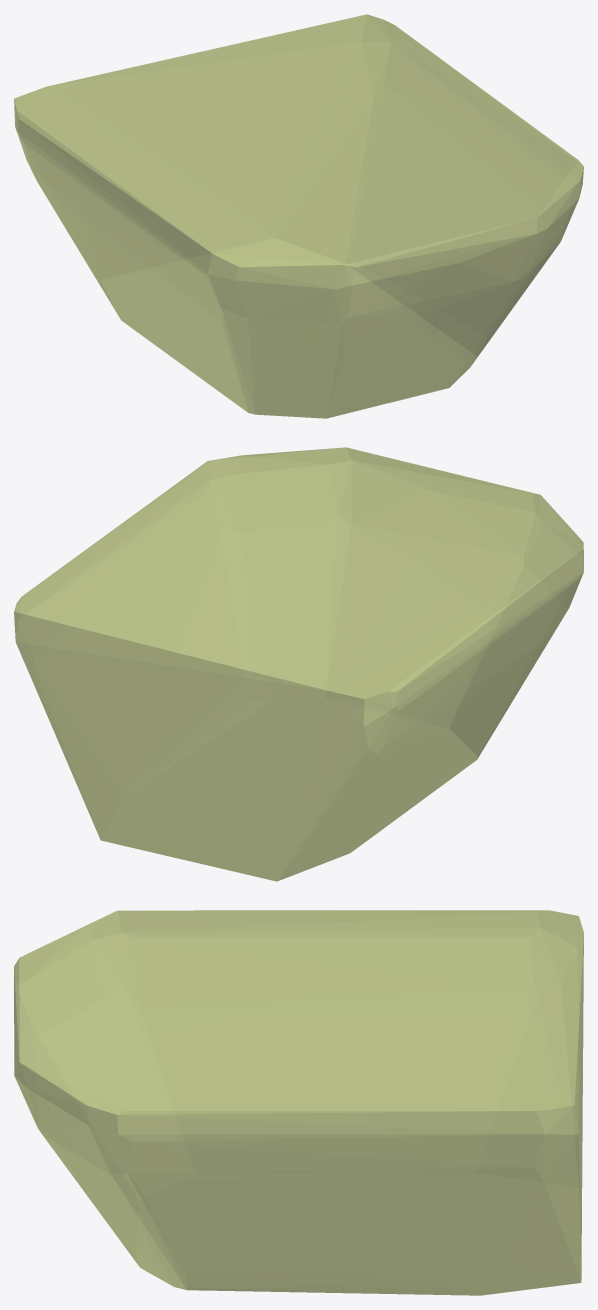
3 renders of one model, top to bottom at view 1: azimuth 30°, elevation 25°; view 2: azimuth 150°, elevation 25°; view 3: azimuth 270°, elevation 25°, orthographic. The views are drawn at different scales.
Parts seen in each view (by area): view 1: Shape_IndexedFaceSet.002_Shape_IndexedFaceSet.11833; view 2: Shape_IndexedFaceSet.002_Shape_IndexedFaceSet.11833; view 3: Shape_IndexedFaceSet.002_Shape_IndexedFaceSet.11833.
Boxes of the visible parts, left/top/right/bottom form: Shape_IndexedFaceSet.002_Shape_IndexedFaceSet.11833: left=14, top=14, right=583, bottom=418; Shape_IndexedFaceSet.002_Shape_IndexedFaceSet.11833: left=14, top=447, right=583, bottom=881; Shape_IndexedFaceSet.002_Shape_IndexedFaceSet.11833: left=14, top=910, right=583, bottom=1295.
Size of the model in its own units: 1.17 by 0.6105 by 1.39.
